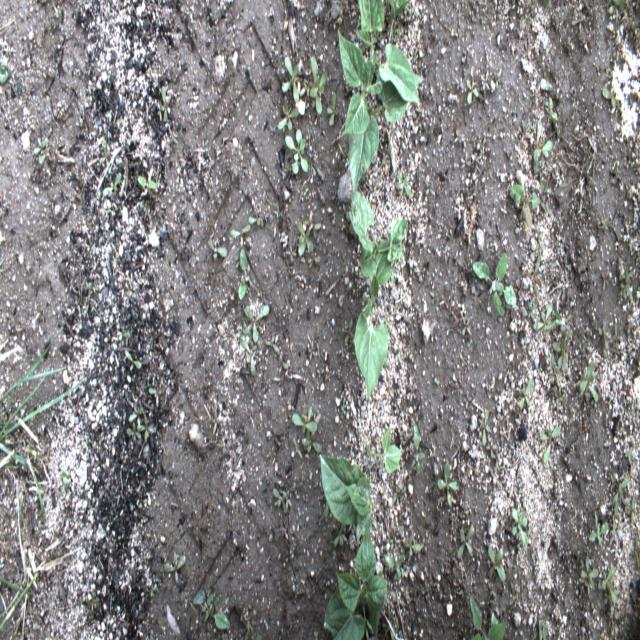crop: (337, 28, 423, 198), (348, 188, 410, 399), (354, 0, 420, 104), (323, 535, 387, 638), (322, 455, 374, 546), (365, 424, 401, 474)
weed: (0, 327, 87, 529), (471, 251, 516, 317), (0, 571, 38, 631), (297, 55, 327, 116), (192, 585, 230, 630), (508, 183, 542, 232), (470, 594, 505, 639), (528, 119, 554, 172), (284, 128, 308, 175), (544, 302, 573, 339), (241, 304, 269, 342), (408, 423, 427, 475), (539, 424, 561, 468), (437, 462, 457, 510), (598, 565, 622, 605), (280, 54, 299, 104), (578, 359, 599, 404), (162, 549, 185, 587), (386, 0, 414, 30), (295, 214, 313, 258), (526, 254, 543, 300), (0, 574, 34, 596), (240, 336, 258, 377), (580, 552, 599, 590), (552, 337, 572, 373), (238, 248, 251, 303), (205, 233, 228, 264), (137, 166, 159, 198), (588, 514, 610, 546), (532, 300, 554, 332), (610, 474, 630, 509), (488, 542, 505, 582), (511, 507, 528, 546), (277, 100, 299, 130), (457, 524, 475, 558), (602, 83, 622, 111), (229, 225, 251, 249), (292, 413, 318, 433), (478, 406, 491, 446), (520, 378, 534, 414), (137, 415, 157, 440), (302, 430, 322, 455), (128, 406, 144, 437), (98, 140, 112, 175), (332, 516, 347, 548), (385, 554, 405, 578), (403, 532, 422, 557), (272, 486, 288, 515), (397, 169, 413, 198), (161, 82, 172, 124), (597, 317, 609, 355), (103, 171, 121, 196), (294, 80, 306, 116), (148, 384, 164, 410), (124, 349, 142, 372), (262, 332, 280, 355), (343, 317, 357, 346), (326, 94, 339, 125), (116, 322, 132, 347), (610, 321, 622, 353), (305, 406, 315, 443), (550, 354, 561, 386), (466, 79, 479, 105), (546, 95, 559, 121), (290, 437, 304, 461), (552, 386, 568, 406), (307, 243, 321, 265), (248, 210, 264, 229), (33, 136, 48, 156), (460, 314, 472, 338), (612, 503, 620, 538), (490, 446, 502, 469), (127, 423, 141, 442), (38, 145, 51, 165), (0, 61, 10, 87), (479, 70, 491, 91), (527, 299, 538, 321), (275, 354, 290, 370), (521, 119, 533, 139), (633, 533, 639, 568), (283, 488, 292, 511), (157, 101, 165, 123), (538, 618, 546, 639), (630, 495, 635, 526), (62, 462, 68, 487)
